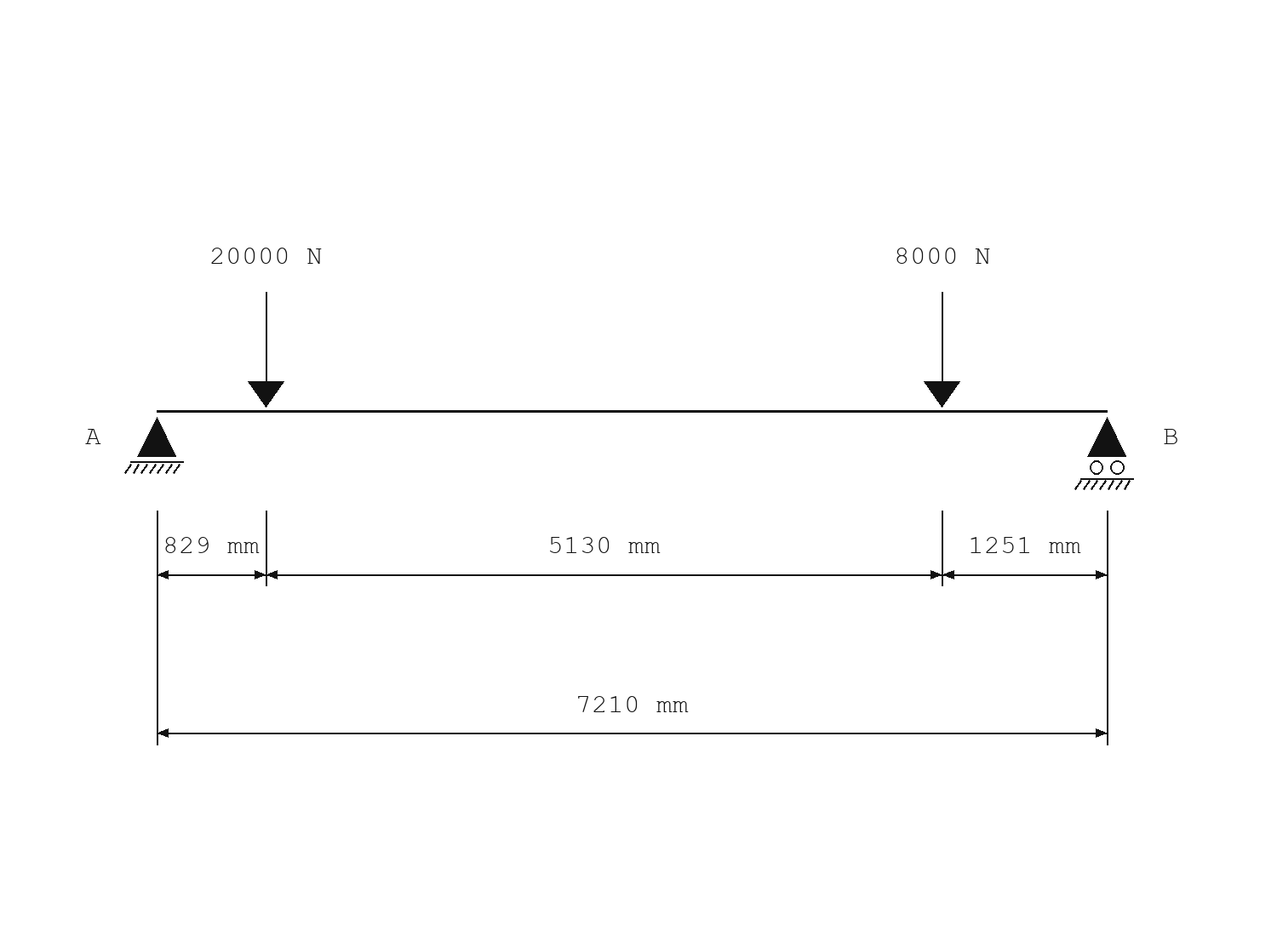pin_support: (124, 417, 184, 474)
point_load: (248, 292, 284, 408), (924, 292, 960, 408)
roller_support: (1074, 417, 1134, 490)
